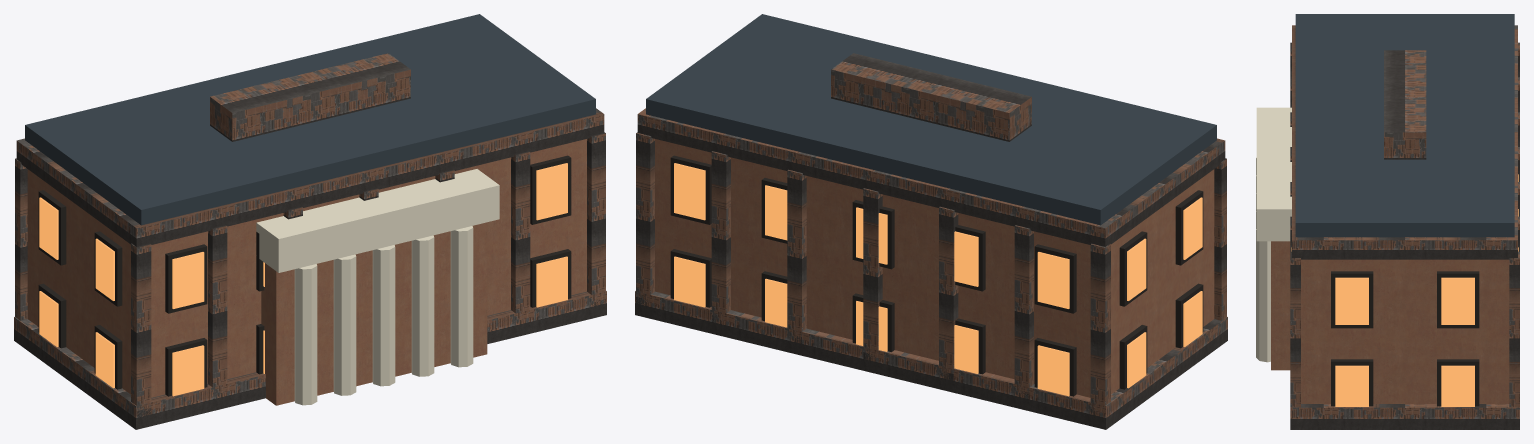
Rendered from mariinsky.glb.
The picture shows the model from 3 angles, left to right: view 1: azimuth 30°, elevation 25°; view 2: azimuth 150°, elevation 25°; view 3: azimuth 270°, elevation 25°; orthographic projection. The views are drawn at different scales.
Parts seen in each view (by area): view 1: mariinsky; view 2: mariinsky; view 3: mariinsky.
Boxes of the visible parts, left/top/right/bottom form: mariinsky: left=14, top=14, right=606, bottom=429; mariinsky: left=635, top=14, right=1227, bottom=429; mariinsky: left=1256, top=14, right=1519, bottom=429.
Bounding box in the file's own units: 14.5 × 7.2 × 7.47.
6 materials, 2 textured.
